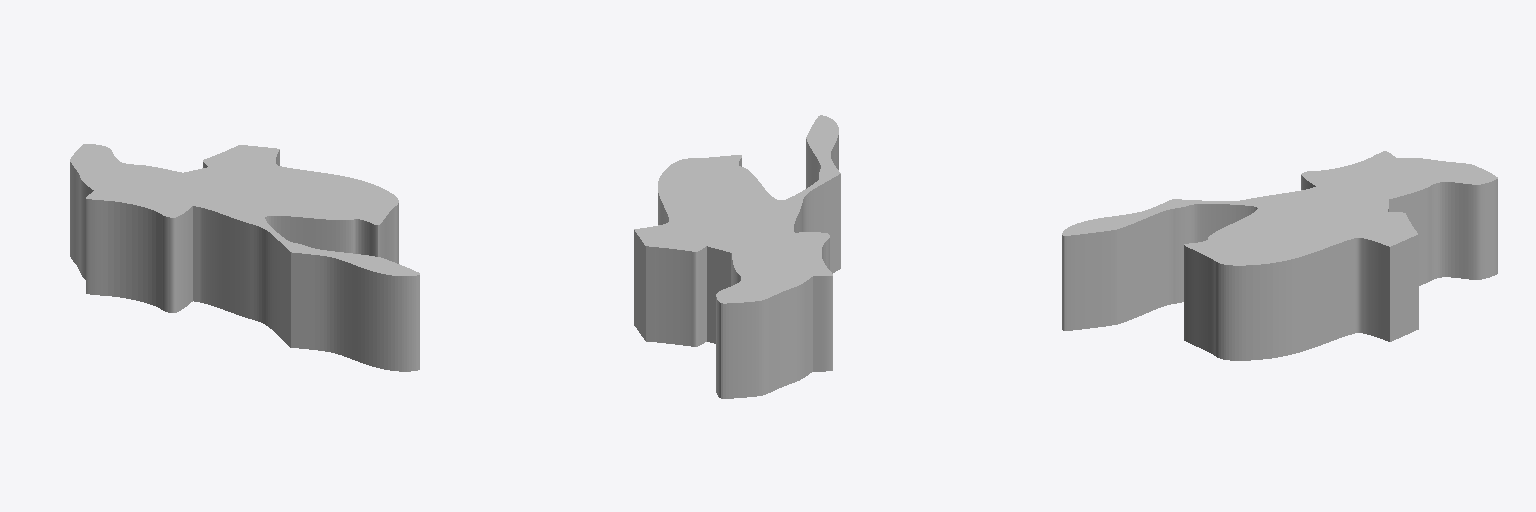
File: Asia_09.obj
The picture shows the model from 3 angles: view 1: azimuth 30°, elevation 25°; view 2: azimuth 150°, elevation 25°; view 3: azimuth 270°, elevation 25°; orthographic projection.
Visible parts, largest first — view 1: Asia_09_path4270; view 2: Asia_09_path4270; view 3: Asia_09_path4270.
Part boxes in pixels (x1,y1,x2,y2): Asia_09_path4270: (70,144,419,371); Asia_09_path4270: (634,115,840,398); Asia_09_path4270: (1062,151,1497,360).
Bounding box in the file's own units: 0.2579 × 0.1 × 0.4146.